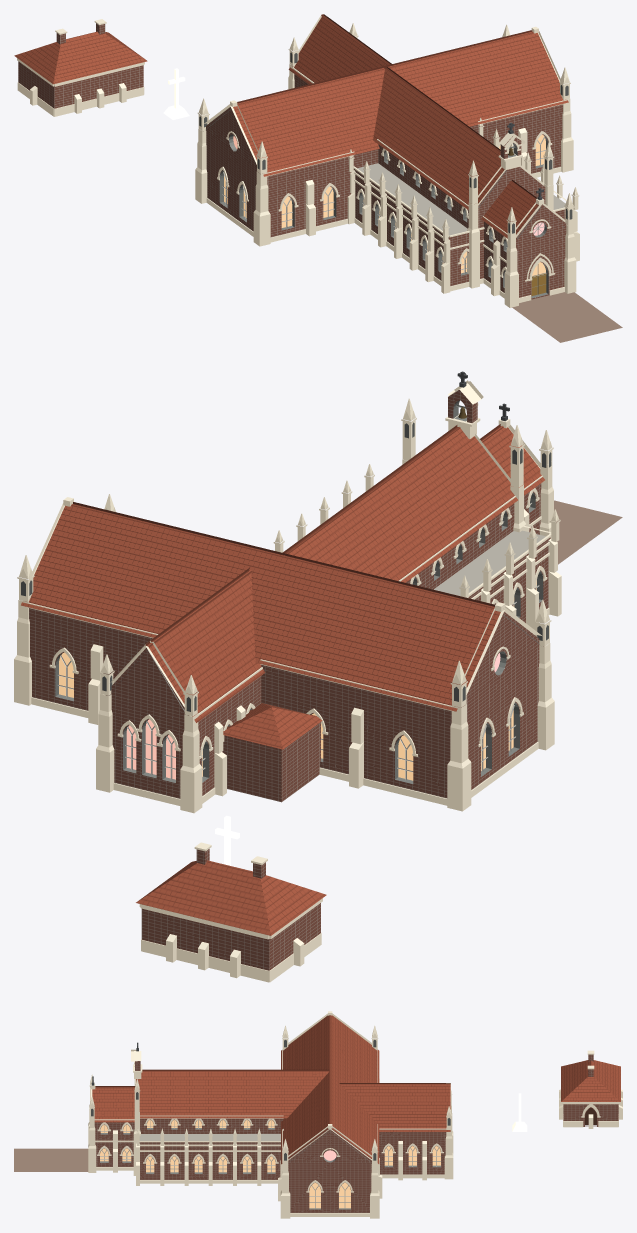
File: christ_church.glb
3 renders of one model, top to bottom at view 1: azimuth 30°, elevation 25°; view 2: azimuth 150°, elevation 25°; view 3: azimuth 270°, elevation 25°, orthographic. The views are drawn at different scales.
Visible parts, largest first — view 1: m_cc_roof_tile, m_cc_brick_wall, m_cc_dressing, m_cc_paving, m_cc_dressing_shade, m_cc_ridge, m_cc_aisle_roof, m_cc_glass, m_cc_tracery, m_cc_lawn_cross, m_cc_panel_dark; view 2: m_cc_roof_tile, m_cc_brick_wall, m_cc_dressing, m_cc_ridge, m_cc_dressing_shade, m_cc_paving, m_cc_aisle_roof, m_cc_glass, m_cc_rose_glass, m_cc_tracery, m_cc_panel_dark; view 3: m_cc_roof_tile, m_cc_brick_wall, m_cc_dressing, m_cc_glass, m_cc_paving, m_cc_ridge, m_cc_aisle_roof, m_cc_tracery, m_cc_dressing_shade.
Boxes of the visible parts, x1,y1,x2,y2 form: m_cc_roof_tile: [14, 15, 568, 238]; m_cc_brick_wall: [18, 23, 566, 299]; m_cc_dressing: [17, 15, 579, 307]; m_cc_paving: [512, 292, 622, 342]; m_cc_dressing_shade: [206, 109, 564, 298]; m_cc_ridge: [237, 14, 537, 200]; m_cc_aisle_roof: [357, 163, 566, 235]; m_cc_glass: [224, 134, 545, 275]; m_cc_tracery: [222, 136, 546, 276]; m_cc_lawn_cross: [163, 68, 189, 119]; m_cc_panel_dark: [199, 52, 572, 233]; m_cc_roof_tile: [21, 426, 544, 935]; m_cc_brick_wall: [29, 390, 550, 970]; m_cc_dressing: [14, 380, 561, 982]; m_cc_ridge: [71, 424, 503, 646]; m_cc_dressing_shade: [55, 400, 543, 783]; m_cc_paving: [554, 500, 622, 564]; m_cc_aisle_roof: [434, 530, 545, 596]; m_cc_glass: [59, 581, 536, 780]; m_cc_rose_glass: [126, 653, 500, 779]; m_cc_tracery: [57, 502, 539, 780]; m_cc_panel_dark: [21, 422, 551, 711]; m_cc_roof_tile: [92, 1015, 620, 1164]; m_cc_brick_wall: [94, 1054, 618, 1212]; m_cc_dressing: [88, 1011, 622, 1218]; m_cc_glass: [100, 1120, 440, 1208]; m_cc_paving: [14, 1148, 88, 1171]; m_cc_ridge: [95, 1015, 450, 1123]; m_cc_aisle_roof: [139, 1134, 280, 1140]; m_cc_tracery: [100, 1119, 440, 1208]; m_cc_dressing_shade: [100, 1128, 440, 1209].
Size of the model in its own units: 38 by 16.38 by 77.05.
16 materials, 2 textured.
